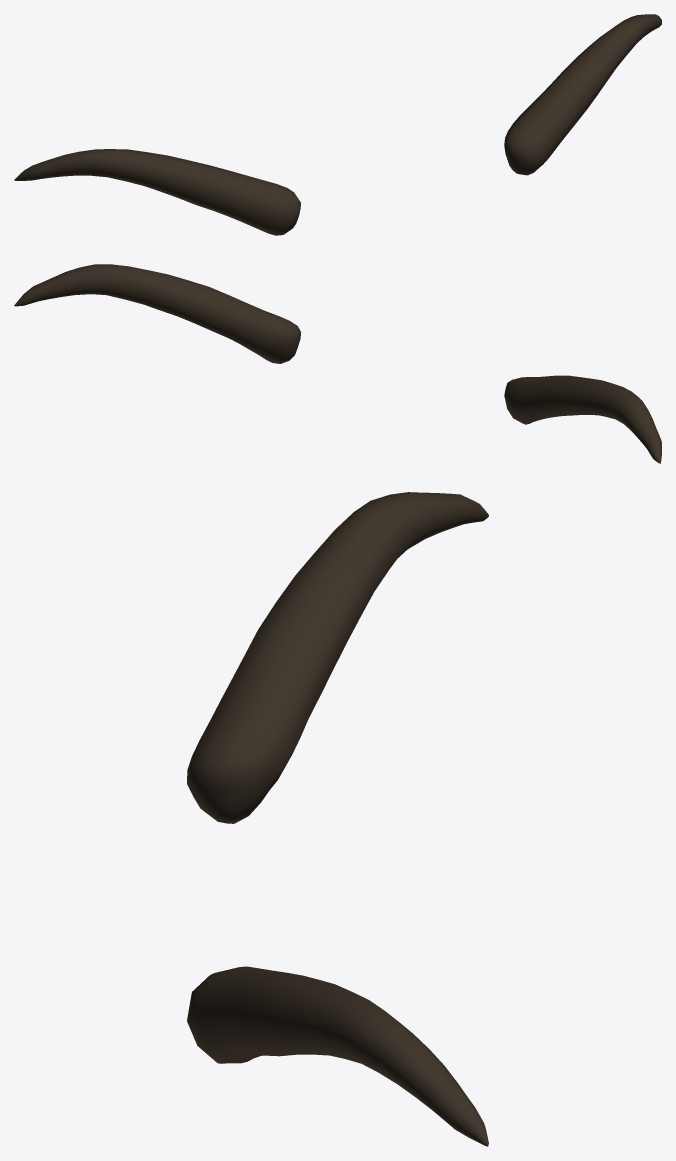
The model's file is upward.fbx.
The picture shows the model from 3 angles, top to bottom: view 1: azimuth 30°, elevation 25°; view 2: azimuth 150°, elevation 25°; view 3: azimuth 270°, elevation 25°; orthographic projection. The views are drawn at different scales.
Visible parts, largest first — view 1: Group1, UPWARD:Group10738; view 2: UPWARD:Group10738, Group1; view 3: Group1, UPWARD:Group10738.
Part boxes in pixels (bbox=[...]): Group1: bbox=[14, 149, 300, 235]; UPWARD:Group10738: bbox=[504, 14, 661, 175]; UPWARD:Group10738: bbox=[14, 264, 301, 363]; Group1: bbox=[504, 375, 661, 463]; Group1: bbox=[187, 492, 488, 823]; UPWARD:Group10738: bbox=[187, 966, 488, 1146].
Size of the model in its own units: 0.5842 by 0.0776 by 0.1181.
